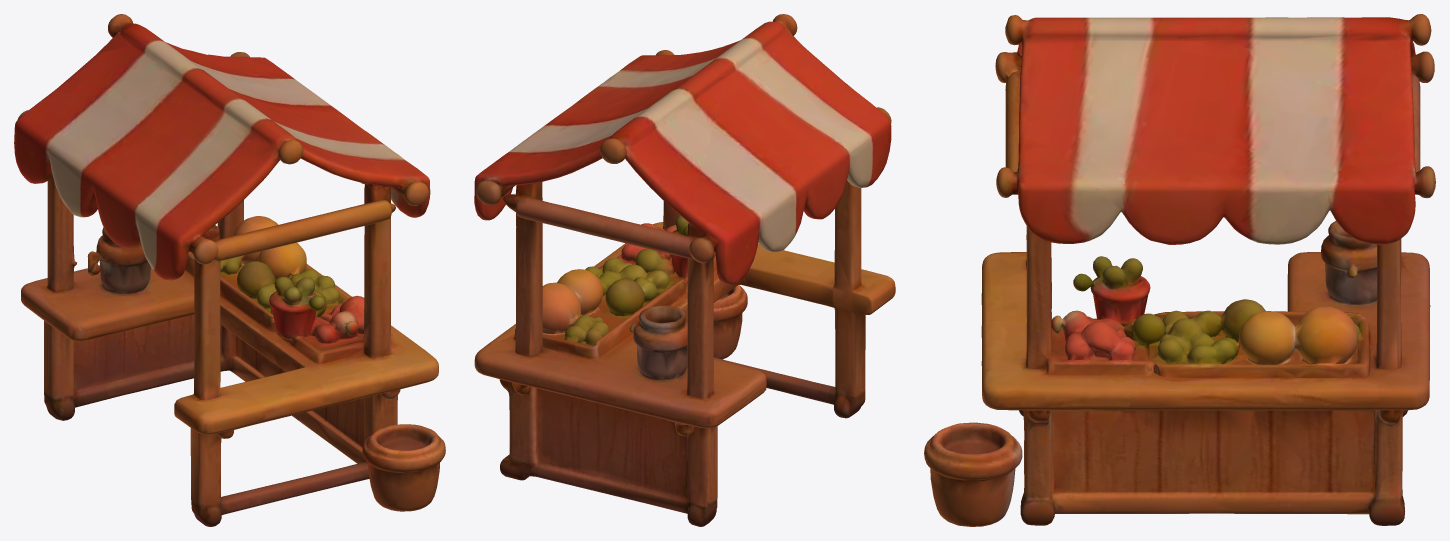
Rendered from market_stall.glb.
The picture shows the model from 3 angles, left to right: view 1: azimuth 30°, elevation 25°; view 2: azimuth 150°, elevation 25°; view 3: azimuth 270°, elevation 25°; orthographic projection. The views are drawn at different scales.
Parts seen in each view (by area): view 1: tripo_node_d4e605d2-25a4-4639-b8e1-d234661a8e66; view 2: tripo_node_d4e605d2-25a4-4639-b8e1-d234661a8e66; view 3: tripo_node_d4e605d2-25a4-4639-b8e1-d234661a8e66.
Boxes of the visible parts, <box> form: tripo_node_d4e605d2-25a4-4639-b8e1-d234661a8e66: <box>14,14,445,526</box>; tripo_node_d4e605d2-25a4-4639-b8e1-d234661a8e66: <box>474,14,895,526</box>; tripo_node_d4e605d2-25a4-4639-b8e1-d234661a8e66: <box>924,14,1435,526</box>.
Bounding box in the file's own units: 0.6453 × 0.9073 × 0.9436.
Materials: 1 (1 with a texture image).
